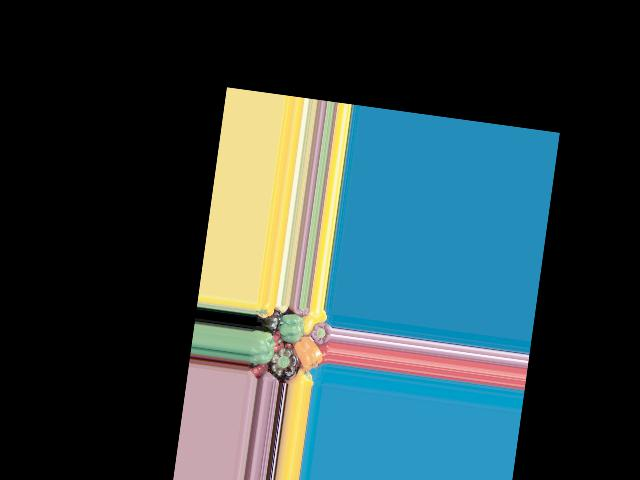bell_pepper: (247, 330, 273, 366)
